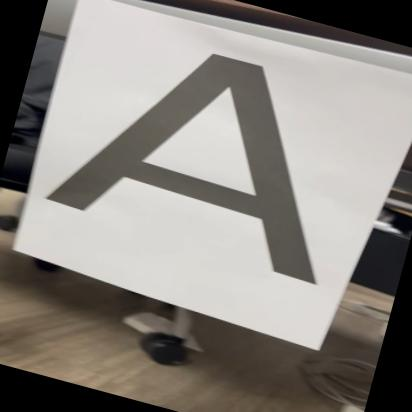seat: (28, 11, 387, 304)
